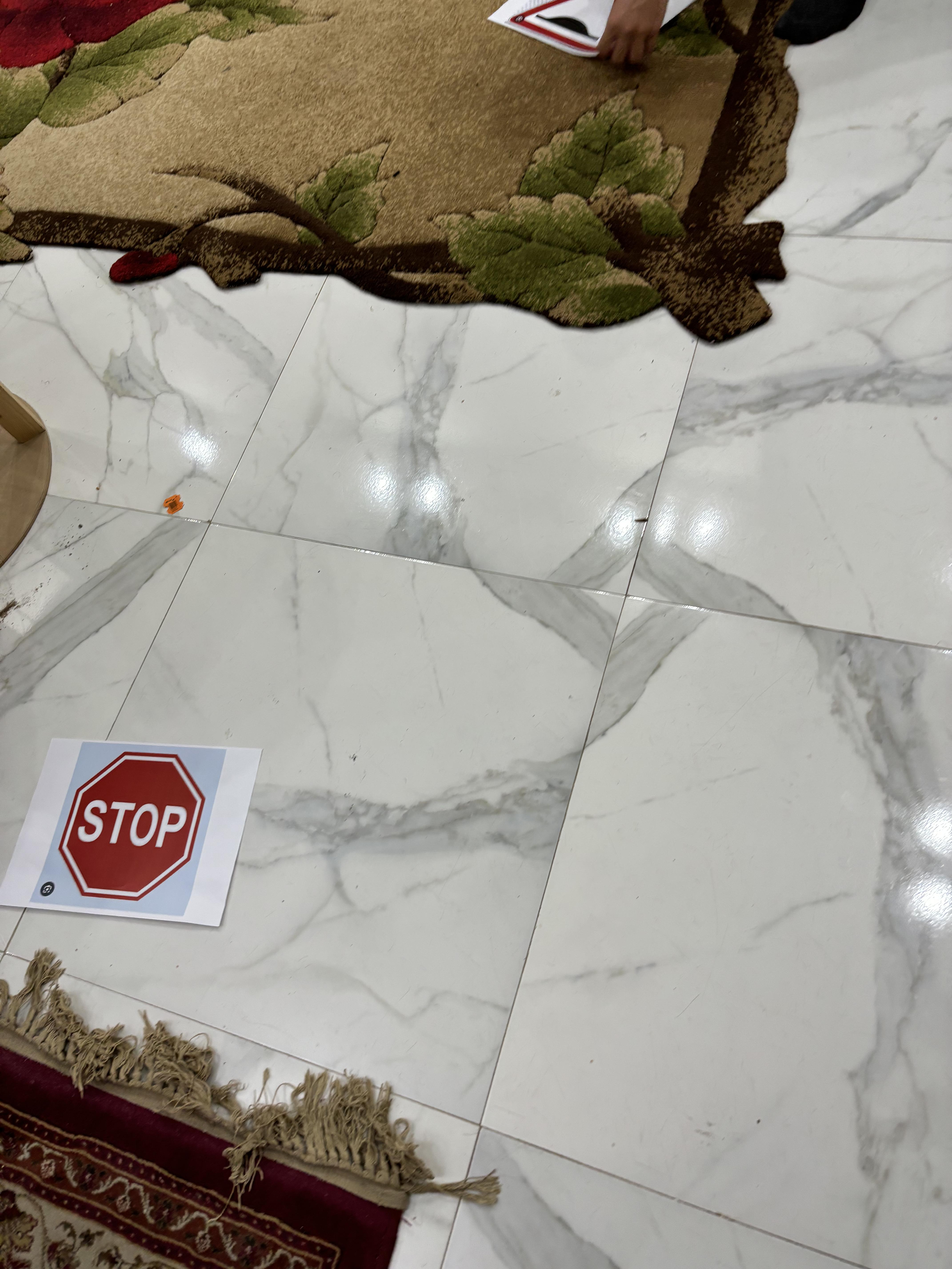Stop: (60, 747, 204, 900)
